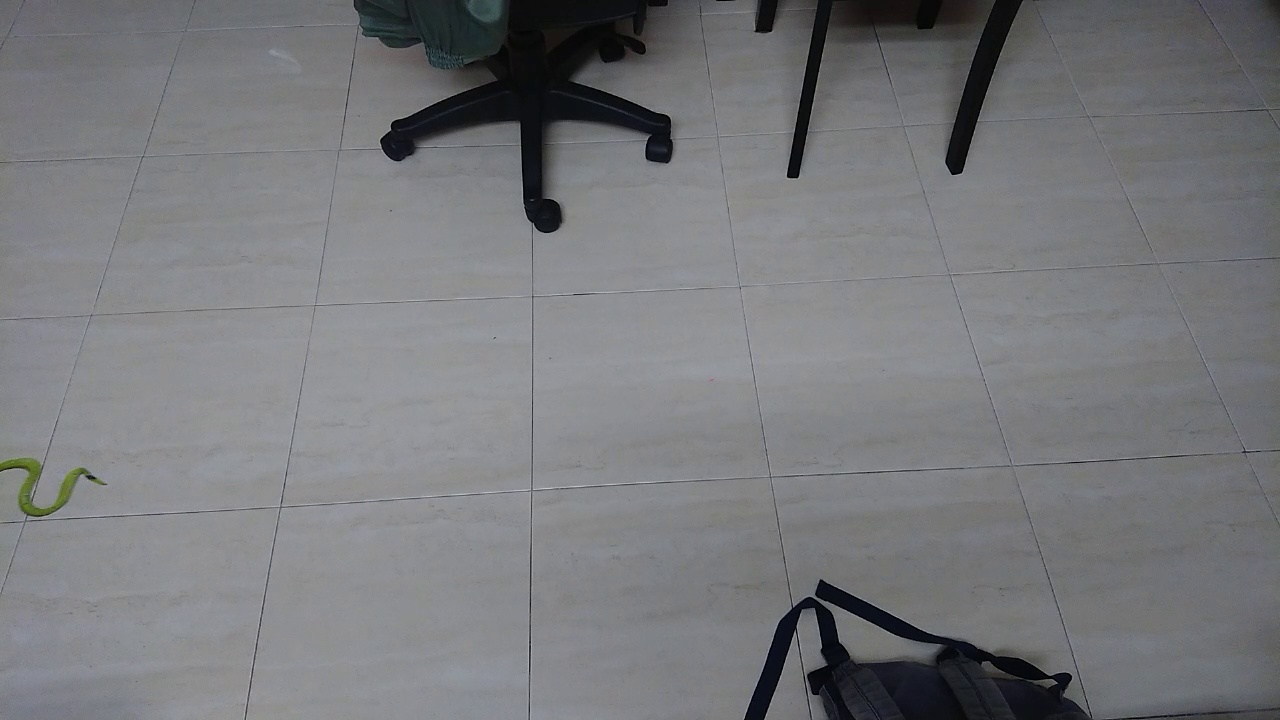snake: (1, 442, 126, 533)
